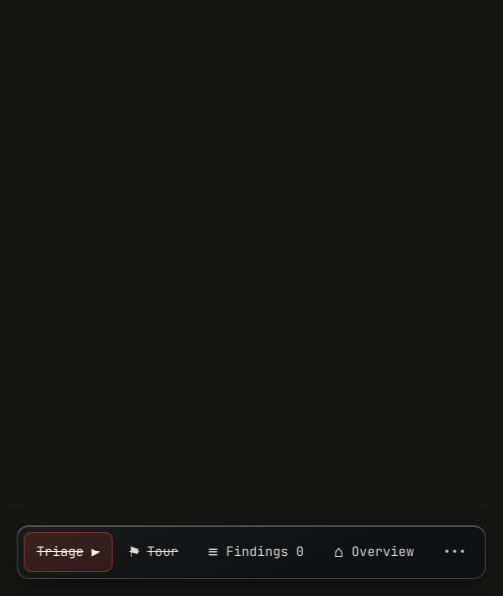
Test: the update check answers what it actually found › does not read a failed request as 'you are current'
Click the button with id "city-more-button" at (455, 552), box [431, 532, 478, 572]
(page scrolled)
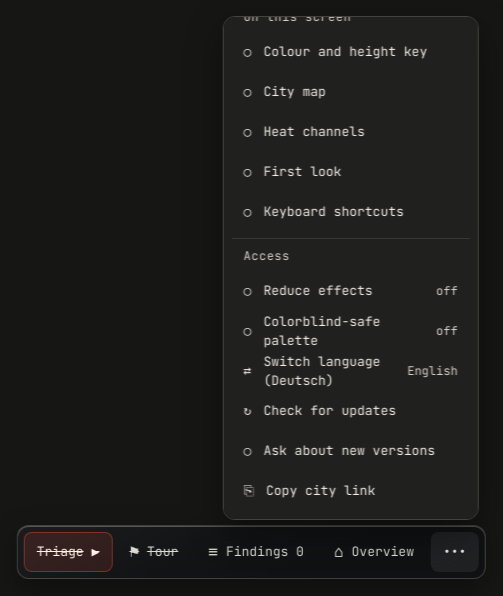
Result: the menu item "↻ Check for updates" is shown
Click the menu item "↻ Check for updates" at (350, 411), box [231, 391, 469, 431]
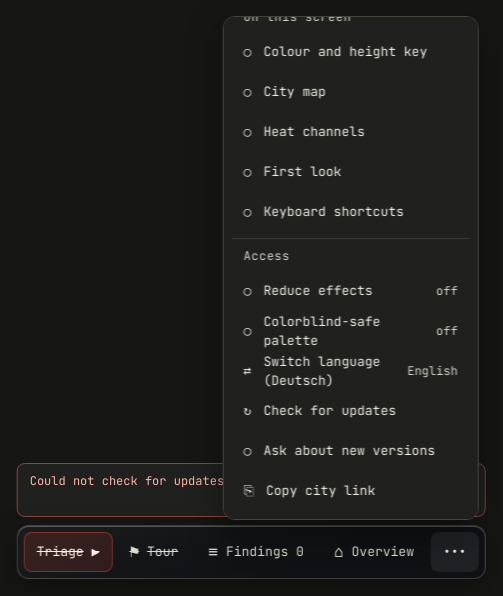
Result: the message "Could not check for updates ×" is shown at [17, 463, 485, 517]
